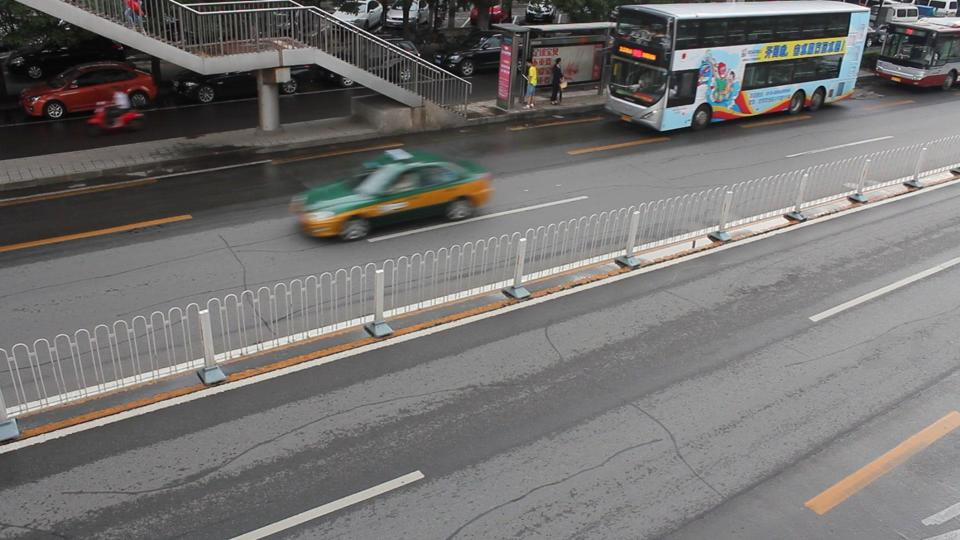Bus: (599, 1, 868, 133), (872, 19, 960, 92)
Car: (299, 152, 489, 237), (21, 62, 159, 120), (177, 49, 309, 101), (432, 31, 540, 76), (332, 37, 418, 85)
